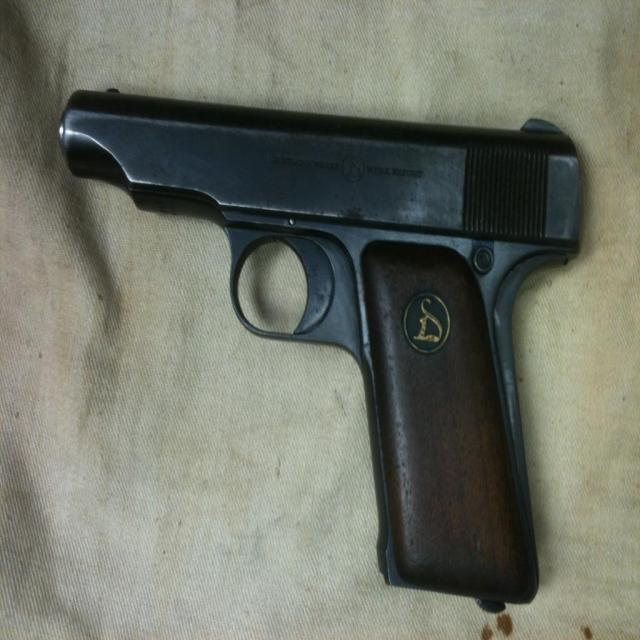Pistol: (40, 69, 610, 630)
